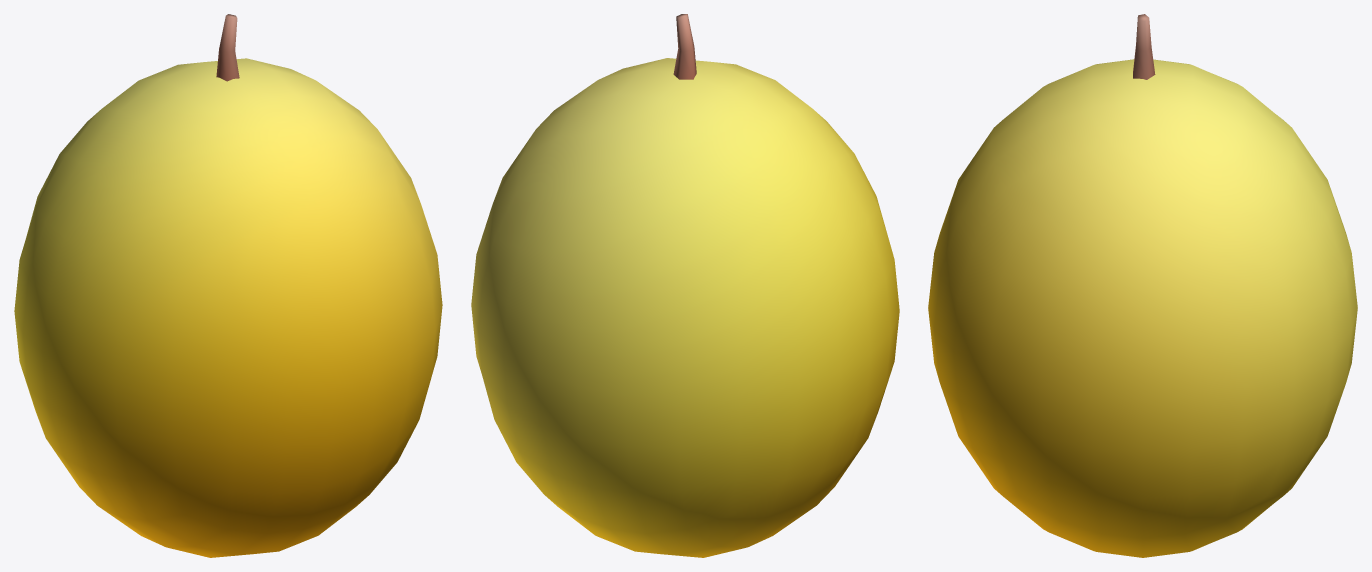
Rendered from melon_001.fbx.
The picture shows the model from 3 angles, left to right: view 1: azimuth 30°, elevation 25°; view 2: azimuth 150°, elevation 25°; view 3: azimuth 270°, elevation 25°; orthographic projection.
Visible parts, largest first — view 1: melon_001; view 2: melon_001; view 3: melon_001.
Part boxes in pixels (left/top/right/bottom): melon_001: left=14, top=14, right=442, bottom=557; melon_001: left=471, top=14, right=899, bottom=557; melon_001: left=928, top=14, right=1357, bottom=557.
Size of the model in its own units: 17.57 by 17.57 by 23.83.
